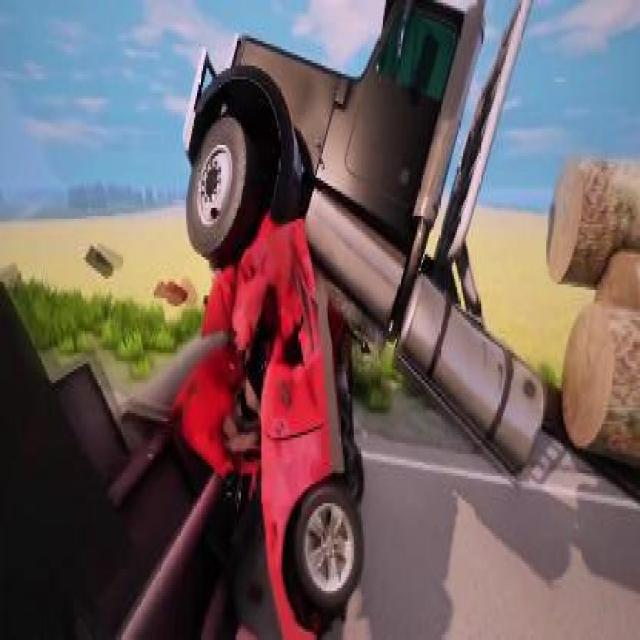accident: (164, 0, 552, 637)
